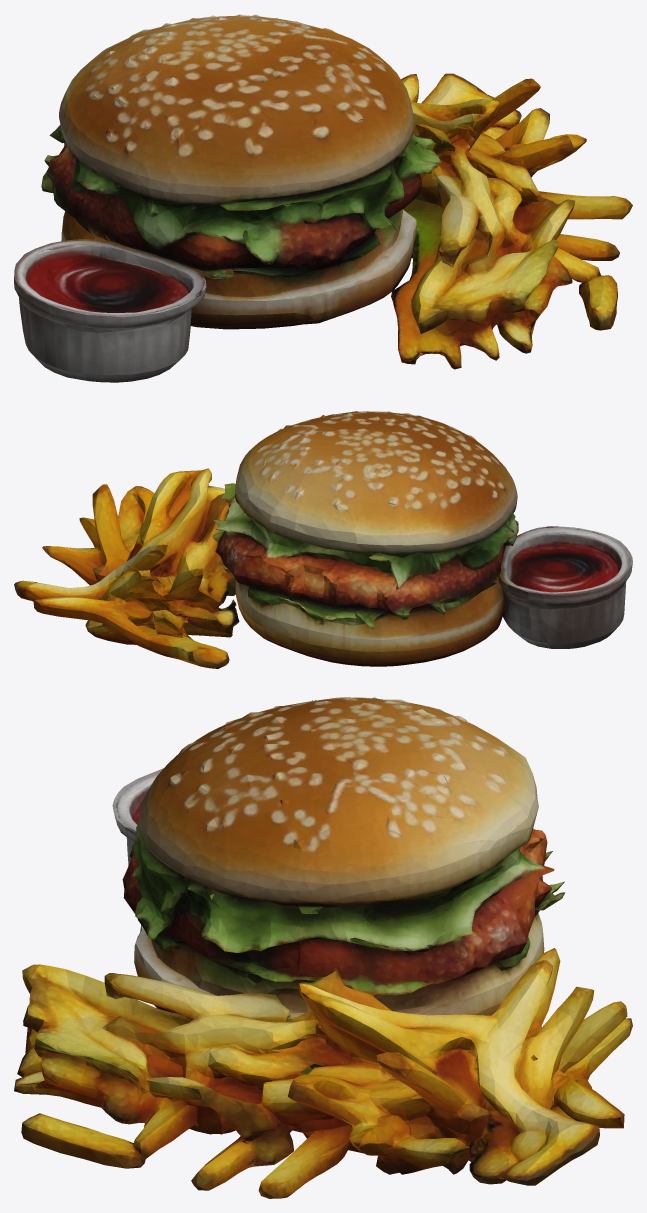
File: smokehouse-burger.glb
3 renders of one model, top to bottom at view 1: azimuth 30°, elevation 25°; view 2: azimuth 150°, elevation 25°; view 3: azimuth 270°, elevation 25°, orthographic. The views are drawn at different scales.
Parts seen in each view (by area): view 1: world; view 2: world; view 3: world.
Boxes of the visible parts, left/top/right/bottom form: world: left=14, top=14, right=632, bottom=382; world: left=14, top=411, right=632, bottom=668; world: left=14, top=697, right=632, bottom=1198.
Size of the model in its own units: 1 by 0.3835 by 0.7484.
1 material, 1 textured.
